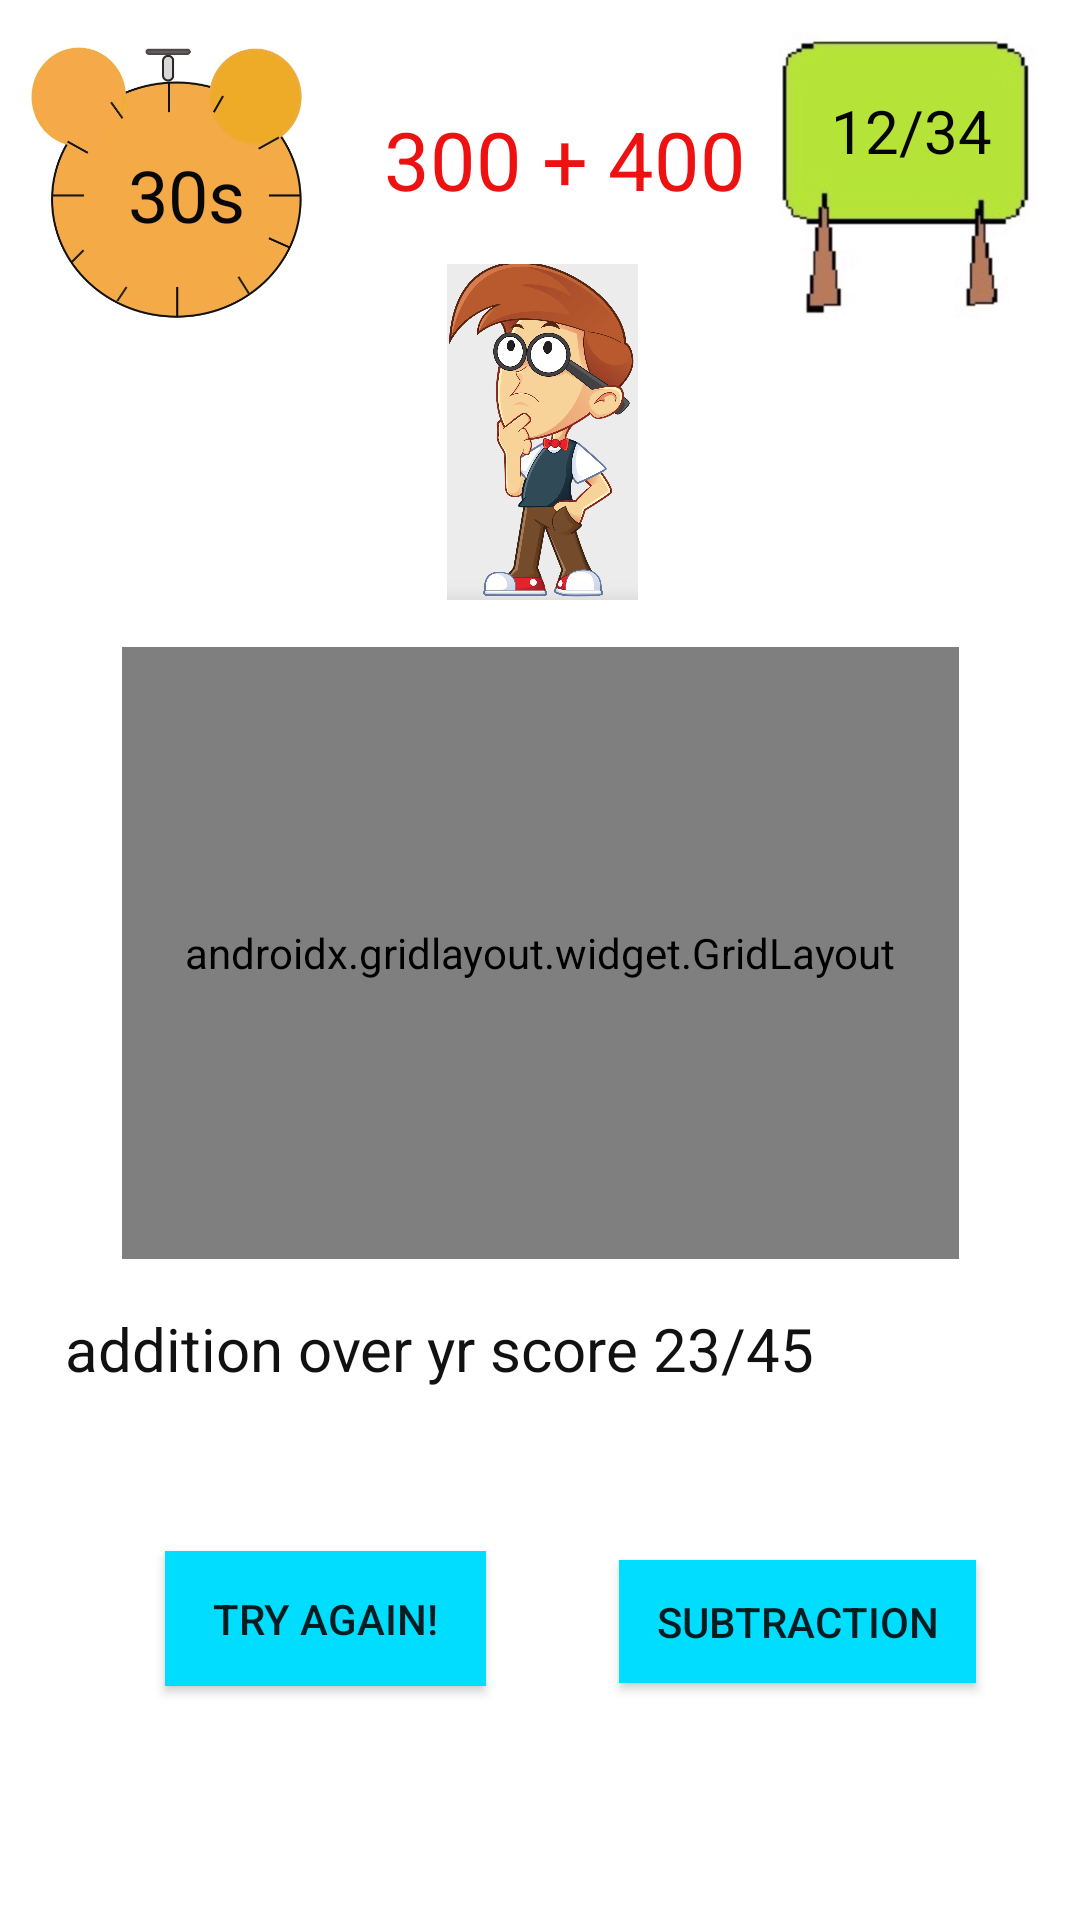

Named icons in this screenshot (1080*1920) and their bounding boxes, (x1, y1, x2, y2):
clock: (31, 47, 302, 318)
